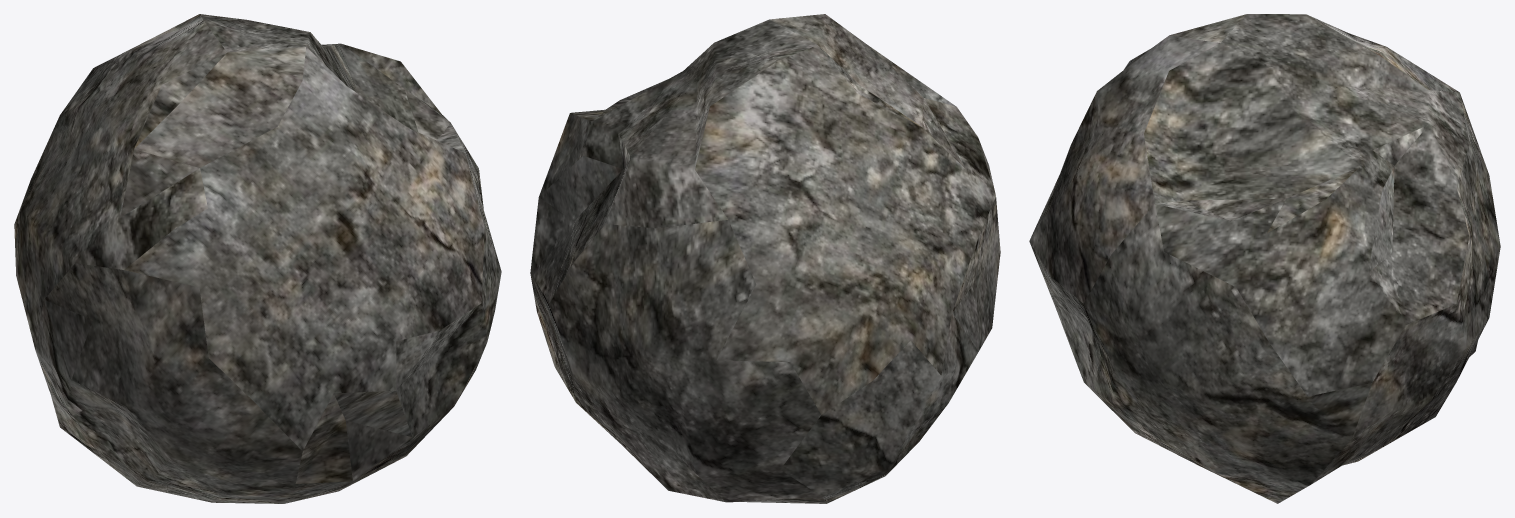
Rendered from asteroid-large-textured.dae.
3 renders of one model, left to right at view 1: azimuth 30°, elevation 25°; view 2: azimuth 150°, elevation 25°; view 3: azimuth 270°, elevation 25°, orthographic. The views are drawn at different scales.
Parts seen in each view (by area): view 1: Icosphere; view 2: Icosphere; view 3: Icosphere.
Part boxes in pixels (bbox=[...]): Icosphere: bbox=[14, 14, 501, 503]; Icosphere: bbox=[530, 14, 1000, 503]; Icosphere: bbox=[1029, 14, 1500, 503].
Size of the model in its own units: 9.99 by 10.44 by 10.59.
